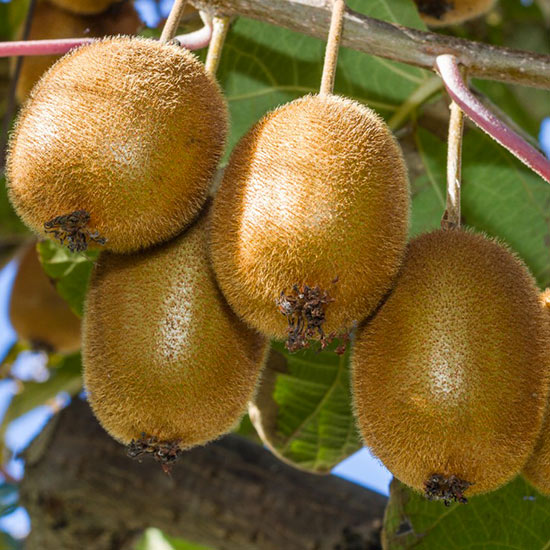kiwi: (351, 228, 550, 504), (210, 93, 411, 345), (9, 35, 230, 258), (82, 196, 268, 456)
